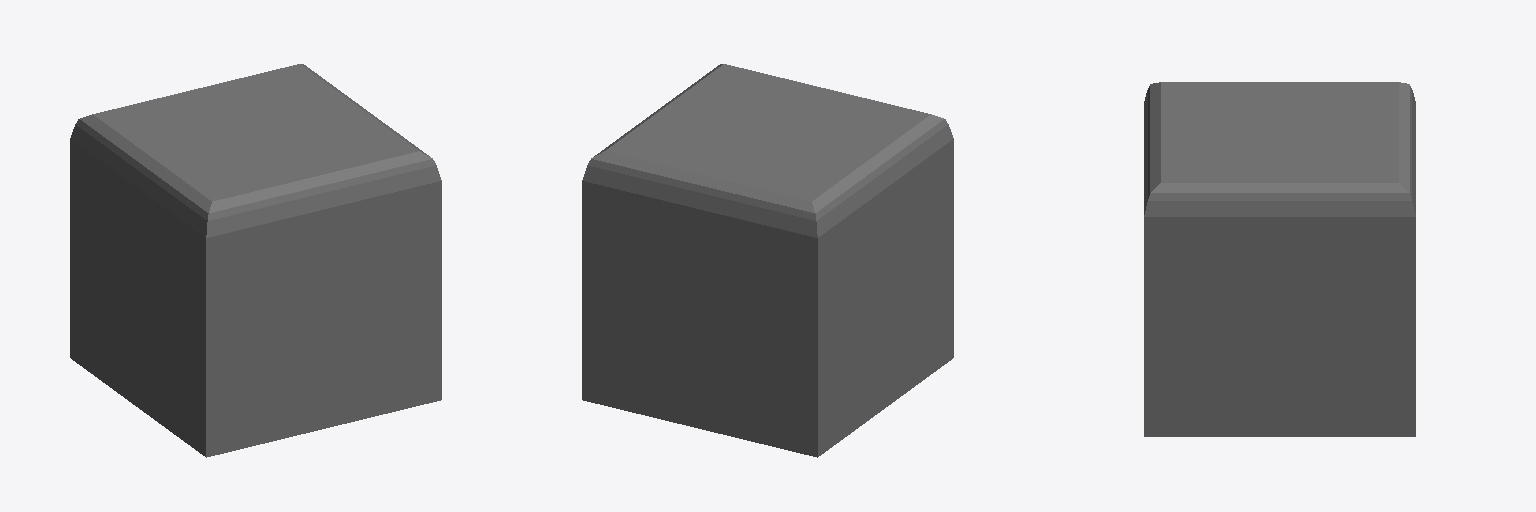
File: boxround3.obj
The picture shows the model from 3 angles: view 1: azimuth 30°, elevation 25°; view 2: azimuth 150°, elevation 25°; view 3: azimuth 270°, elevation 25°; orthographic projection.
Visible parts, largest first — view 1: box3:pCube1; view 2: box3:pCube1; view 3: box3:pCube1.
Part boxes in pixels (x1,y1,x2,y2): box3:pCube1: (70,64,441,457); box3:pCube1: (582,64,953,457); box3:pCube1: (1144,82,1415,436).
Size of the model in its own units: 2 by 2 by 2.